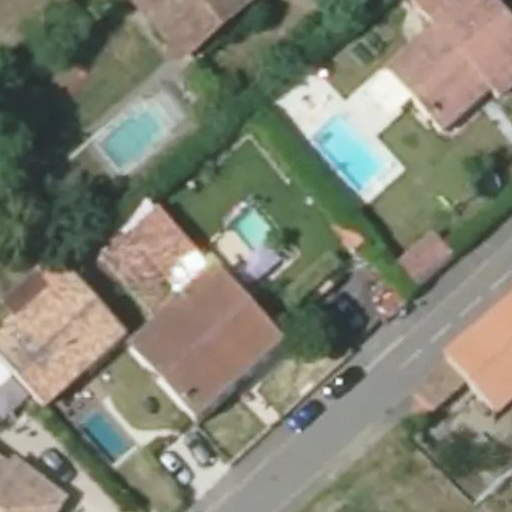pool: (226, 230, 285, 253)
